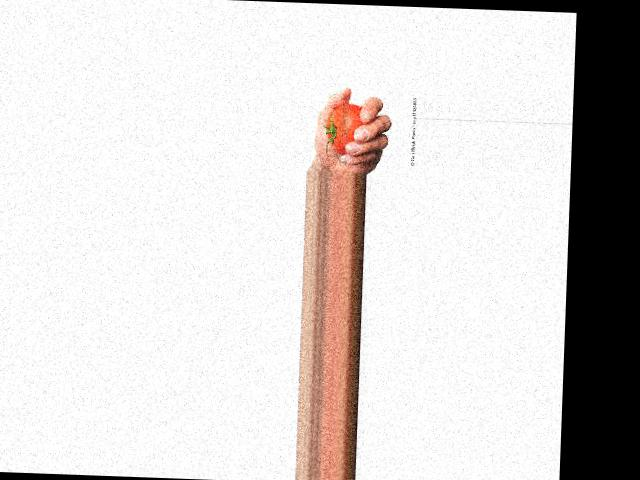tomato: (325, 102, 363, 154)
